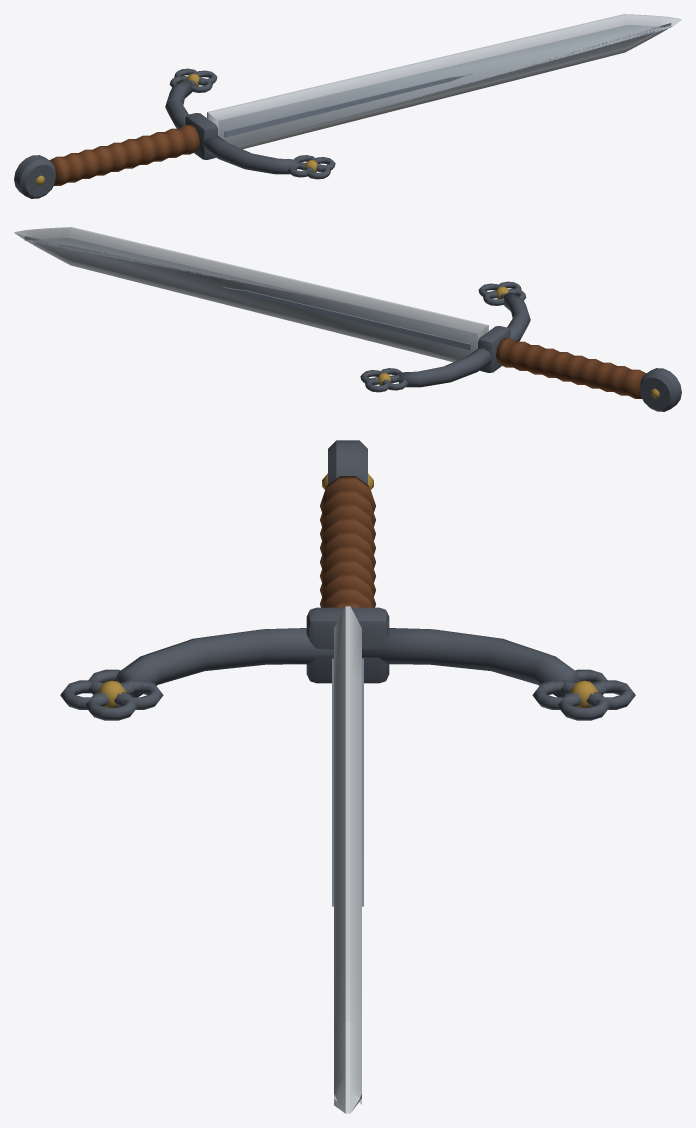
File: sword_claymore.glb
3 renders of one model, top to bottom at view 1: azimuth 30°, elevation 25°; view 2: azimuth 150°, elevation 25°; view 3: azimuth 270°, elevation 25°, orthographic. The views are drawn at different scales.
Parts seen in each view (by area): view 1: sword_claymore; view 2: sword_claymore; view 3: sword_claymore.
Boxes of the visible parts, box(x1,y1,x2,y2) form: sword_claymore: box(14, 14, 681, 198); sword_claymore: box(14, 227, 681, 411); sword_claymore: box(60, 440, 635, 1113).
Bounding box in the file's own units: 1.85 × 0.12 × 0.695.
